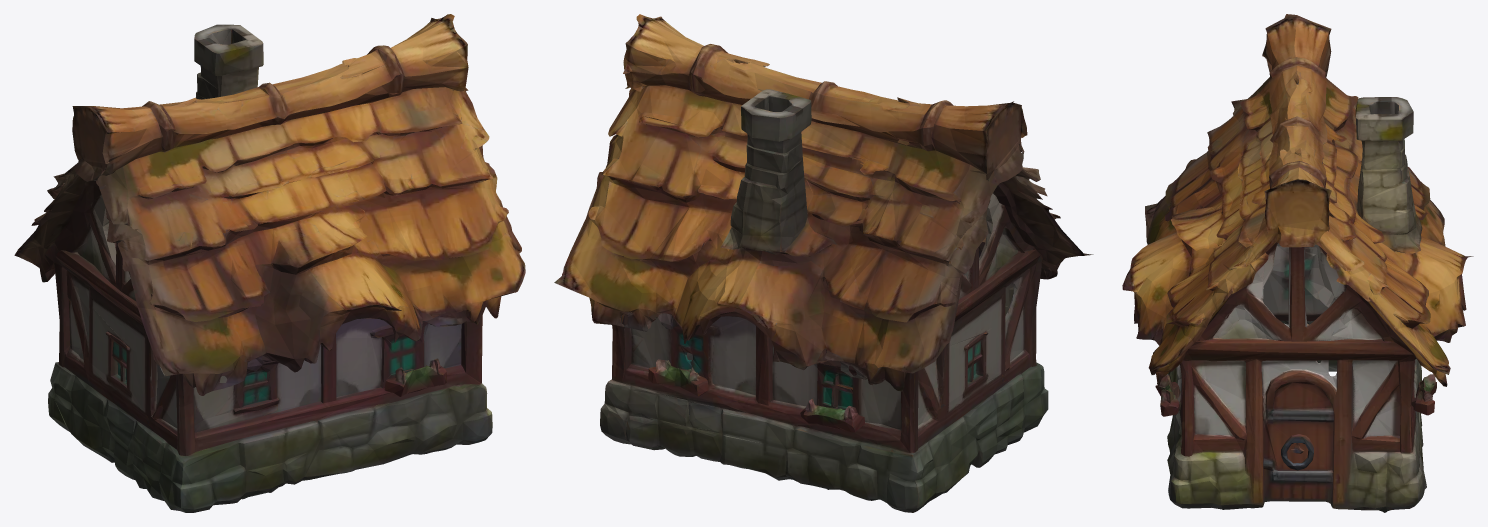
The model's file is house_thatch2.glb.
3 views of the same model, side by side, from view 1: azimuth 30°, elevation 25°; view 2: azimuth 150°, elevation 25°; view 3: azimuth 270°, elevation 25° (orthographic). The views are drawn at different scales.
Parts seen in each view (by area): view 1: world; view 2: world; view 3: world.
Boxes of the visible parts, left/top/right/bottom form: world: left=14, top=14, right=525, bottom=512; world: left=554, top=14, right=1093, bottom=512; world: left=1122, top=14, right=1473, bottom=512.
Size of the model in its own units: 0.9896 by 0.9352 by 0.8511.
1 material, 1 textured.
